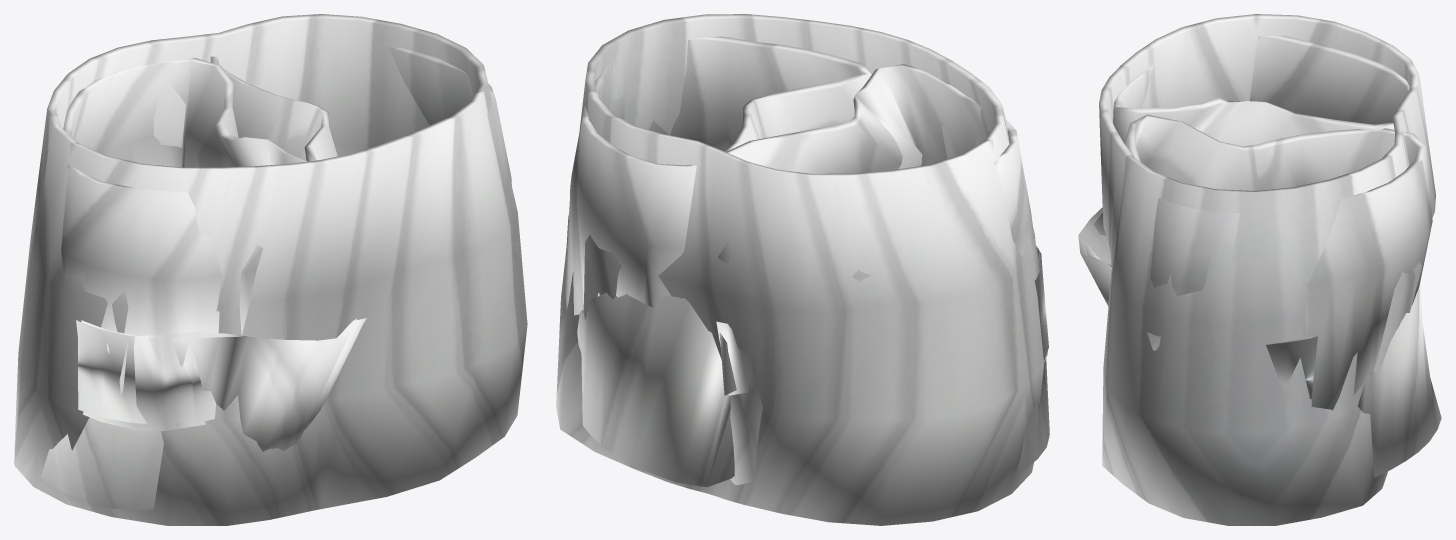
3 views of the same model, side by side, from view 1: azimuth 30°, elevation 25°; view 2: azimuth 150°, elevation 25°; view 3: azimuth 270°, elevation 25° (orthographic). The views are drawn at different scales.
Visible parts, largest first — view 1: garment_leg0; view 2: garment_leg0; view 3: garment_leg0.
Boxes of the visible parts, x1=… form: garment_leg0: x1=14, y1=14, x2=527, y2=525; garment_leg0: x1=556, y1=14, x2=1049, y2=525; garment_leg0: x1=1078, y1=14, x2=1441, y2=525.
Bounding box in the file's own units: 0.4227 × 0.3242 × 0.3108.
Materials: 1 (1 with a texture image).
